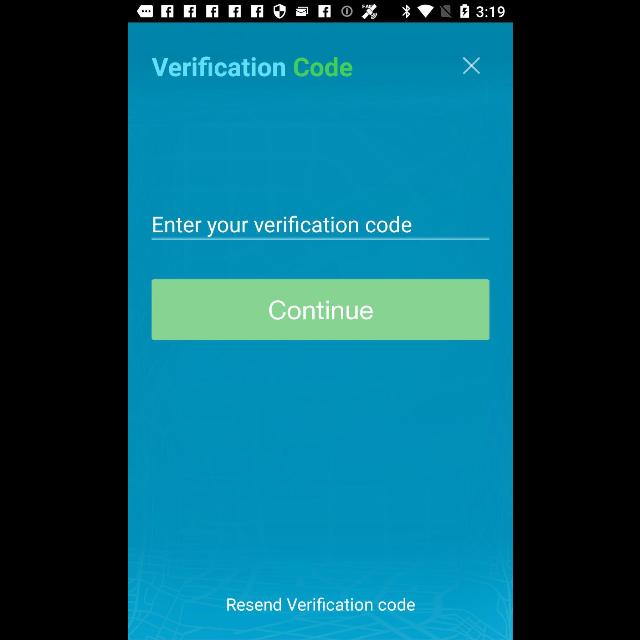icon: (462, 56, 481, 76)
input: (151, 216, 489, 240)
text: (153, 216, 411, 238), (150, 56, 352, 78), (224, 596, 416, 614)
textbutton: (151, 280, 489, 340)
uppertaskbar: (128, 1, 512, 23)
